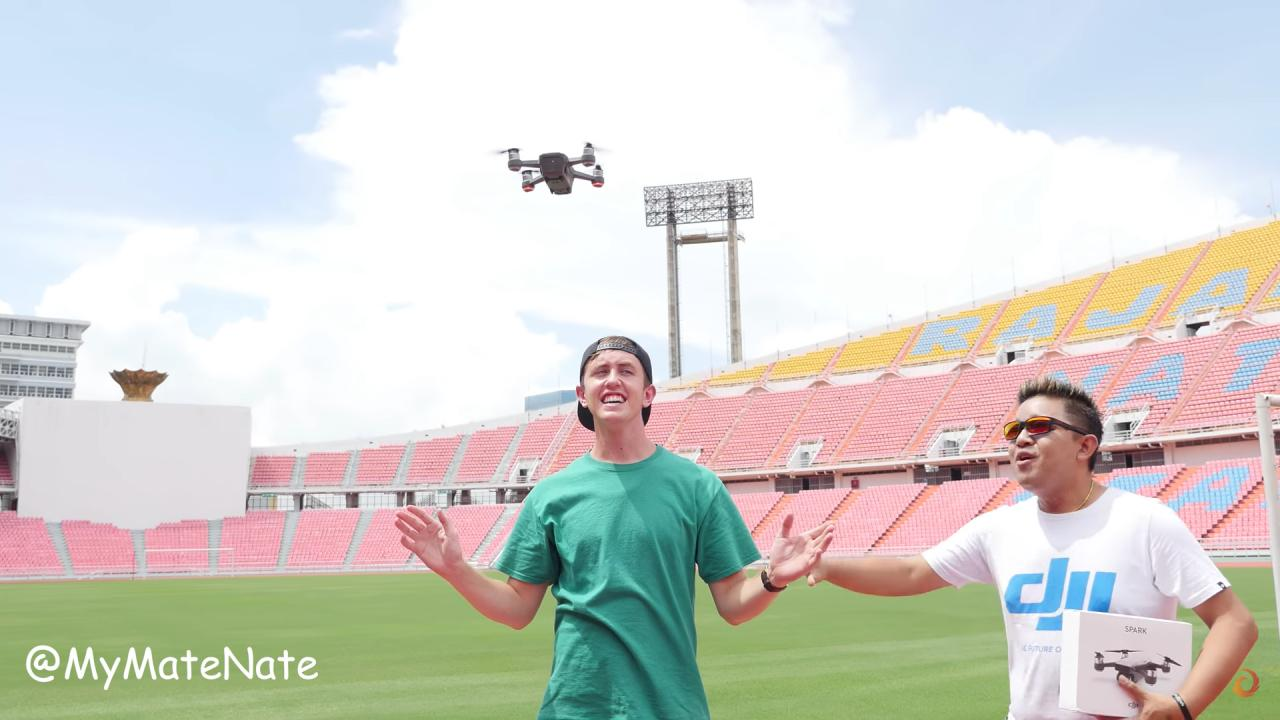Drone: (471, 122, 635, 208)
